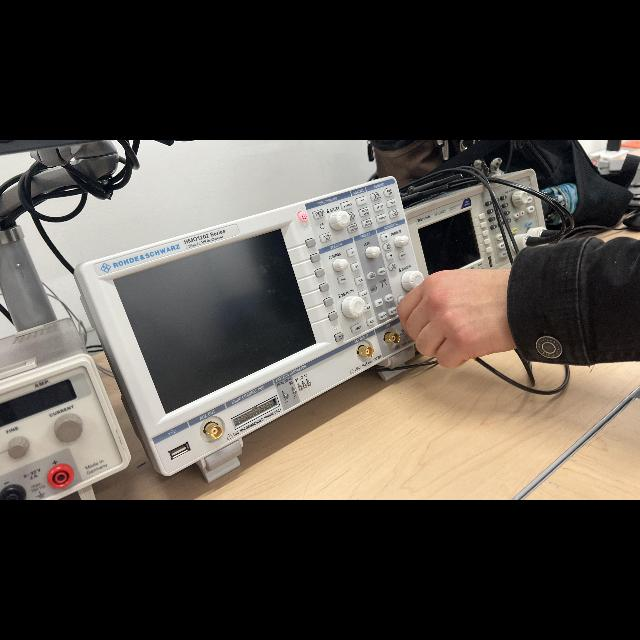Digital-Oscilloscope: (75, 178, 422, 482)
